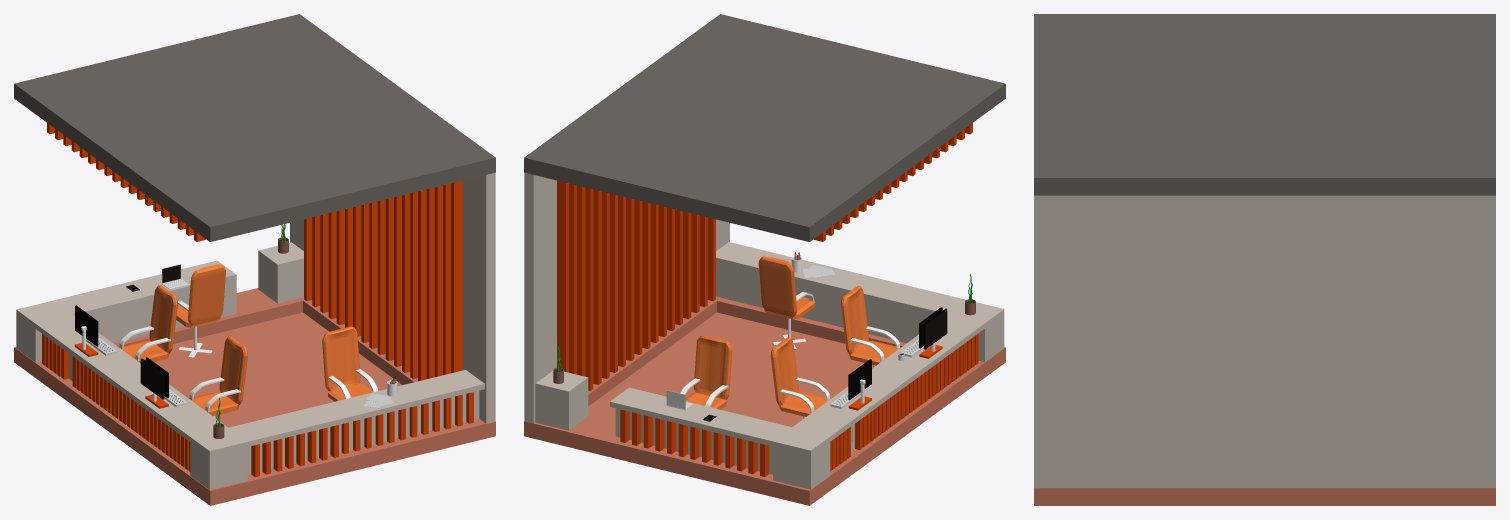
Rendered from Task Bar.fbx.
3 renders of one model, left to right at view 1: azimuth 30°, elevation 25°; view 2: azimuth 150°, elevation 25°; view 3: azimuth 270°, elevation 25°, orthographic. The views are drawn at different scales.
Parts seen in each view (by area): view 1: Cube.112, Cube.232, Cube.113, Cube.111, Cube.157, Cube.246, Cube.031, Cube.155, Cube.114, Cube.154, Cube.141, Cube.156 (+19 smaller); view 2: Cube.112, Cube.113, Cube.232, Cube.111, Cube.153, Cube.031, Cube.246, Cube.150, Cube.149, Cube.151, Cube.148, Cube.147 (+19 smaller); view 3: Cube.111, Cube.112, Cube.232.
Boxes of the visible parts, x1,y1,x2,y2 form: Cube.112: [14, 14, 495, 241]; Cube.232: [14, 288, 495, 505]; Cube.113: [16, 242, 484, 489]; Cube.111: [290, 172, 495, 423]; Cube.157: [194, 180, 462, 373]; Cube.246: [322, 326, 360, 391]; Cube.031: [188, 264, 225, 325]; Cube.155: [177, 185, 442, 376]; Cube.114: [161, 189, 426, 381]; Cube.154: [169, 187, 434, 378]; Cube.141: [145, 193, 410, 372]; Cube.156: [186, 183, 450, 375]; Cube.112: [524, 14, 1005, 241]; Cube.113: [535, 242, 1004, 489]; Cube.232: [524, 296, 1005, 505]; Cube.111: [524, 172, 729, 423]; Cube.153: [557, 180, 825, 372]; Cube.031: [693, 335, 732, 399]; Cube.246: [758, 256, 797, 317]; Cube.150: [585, 187, 850, 390]; Cube.149: [593, 189, 858, 384]; Cube.151: [577, 185, 842, 376]; Cube.148: [601, 191, 866, 378]; Cube.147: [609, 193, 874, 372]; Cube.111: [1034, 195, 1495, 488]; Cube.112: [1034, 14, 1495, 195]; Cube.232: [1034, 488, 1495, 505].
Size of the model in its own units: 600 by 560 by 714.
